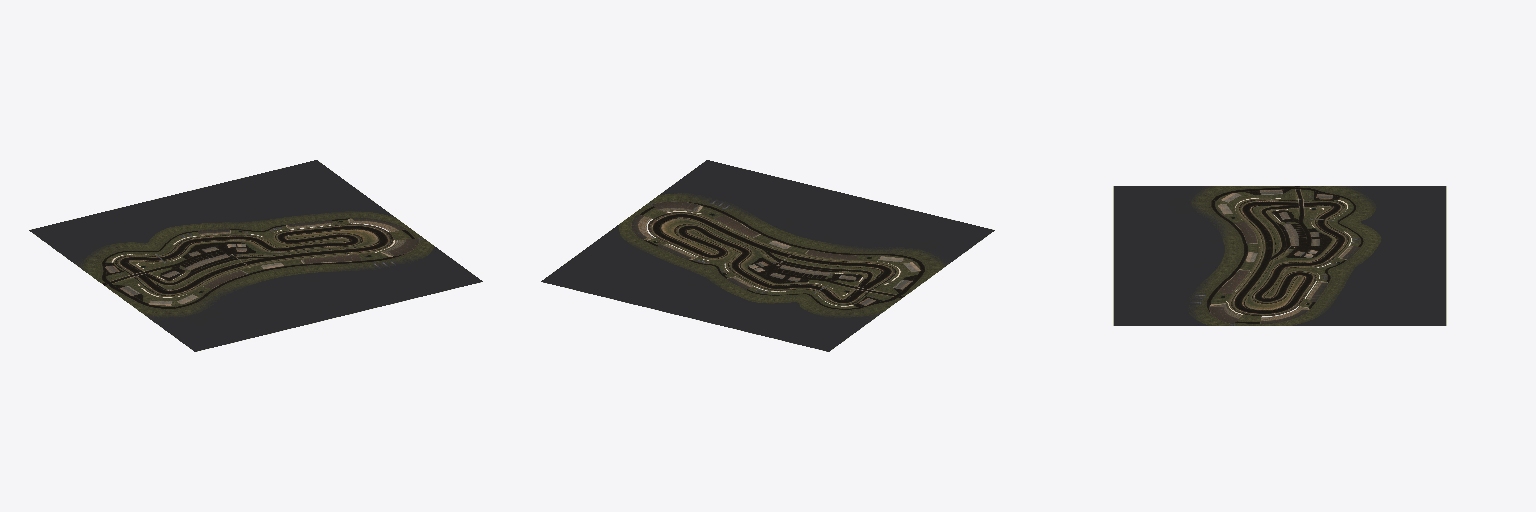
3 views of the same model, side by side, from view 1: azimuth 30°, elevation 25°; view 2: azimuth 150°, elevation 25°; view 3: azimuth 270°, elevation 25° (orthographic).
Parts seen in each view (by area): view 1: Cube1; view 2: Cube1; view 3: Cube1.
Part boxes in pixels (x1,y1,x2,y2): Cube1: (29,160,482,351); Cube1: (541,160,994,351); Cube1: (1113,186,1446,325).
Bounding box in the file's own units: 74.85 × 0.024 × 74.85.
2 materials, 1 textured.